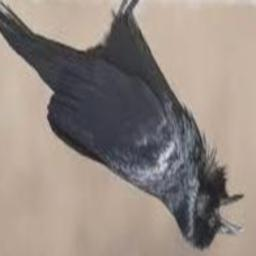Crow: (0, 0, 246, 252)
